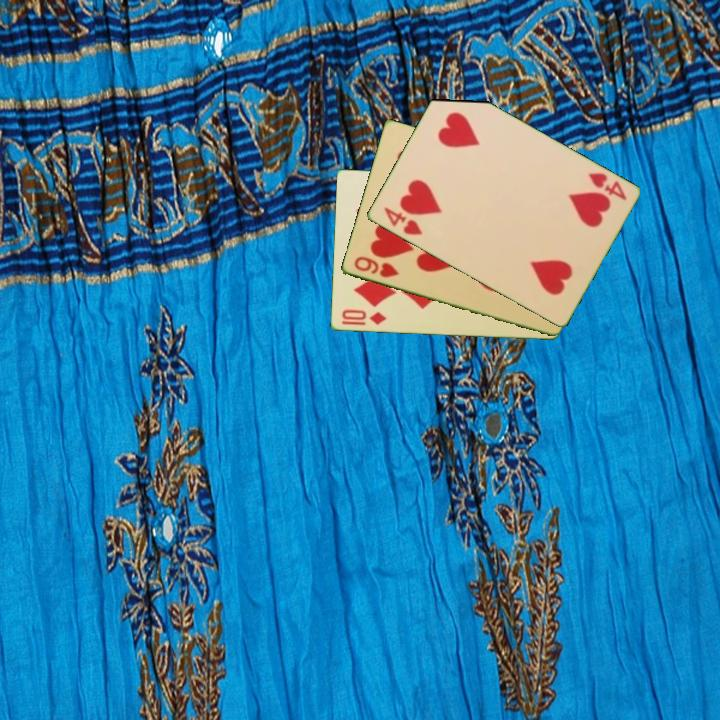10d: (338, 306, 389, 328)
4h: (380, 204, 425, 238), (584, 169, 629, 203)
9h: (350, 253, 402, 281)
